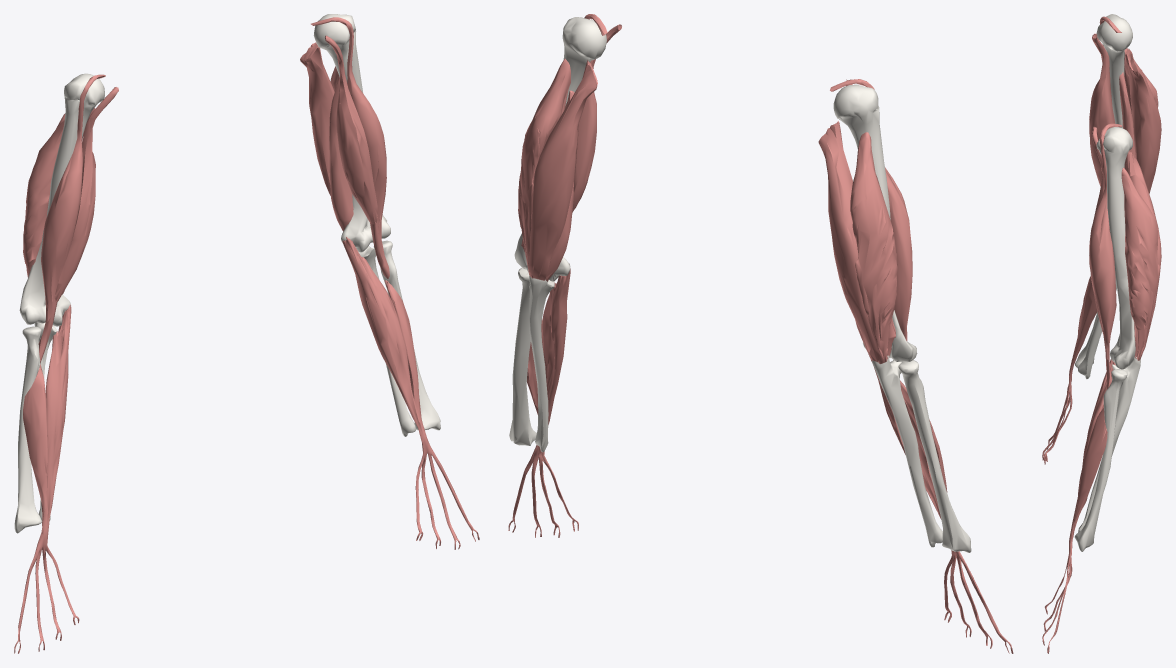
Rendered from braco-cotovelo.glb.
The picture shows the model from 3 angles, left to right: view 1: azimuth 30°, elevation 25°; view 2: azimuth 150°, elevation 25°; view 3: azimuth 270°, elevation 25°; orthographic projection. The views are drawn at different scales.
Parts seen in each view (by area): view 1: flexores-dedos, biceps, triceps, umero, radio, ulna; view 2: triceps, flexores-dedos, umero, radio, ulna, biceps; view 3: triceps, umero, biceps, flexores-dedos, radio, ulna.
Boxes of the visible parts, x1=… form: flexores-dedos: x1=14, y1=237, x2=479, y2=653; biceps: x1=38, y1=17, x2=389, y2=363; triceps: x1=23, y1=42, x2=353, y2=294; umero: x1=19, y1=14, x2=390, y2=326; radio: x1=14, y1=240, x2=440, y2=533; ulna: x1=34, y1=246, x2=415, y2=520; triceps: x1=518, y1=58, x2=897, y2=363; flexores-dedos: x1=508, y1=263, x2=1013, y2=653; umero: x1=514, y1=17, x2=917, y2=362; radio: x1=509, y1=268, x2=971, y2=552; ulna: x1=529, y1=275, x2=942, y2=547; biceps: x1=572, y1=14, x2=912, y2=340; triceps: x1=1119, y1=48, x2=1161, y2=360; umero: x1=1096, y1=14, x2=1135, y2=369; biceps: x1=1089, y1=16, x2=1122, y2=389; flexores-dedos: x1=1042, y1=275, x2=1115, y2=653; radio: x1=1074, y1=312, x2=1127, y2=551; ulna: x1=1077, y1=279, x2=1140, y2=532.
Bounding box in the file's own units: 0.6117 × 0.6636 × 0.149.
